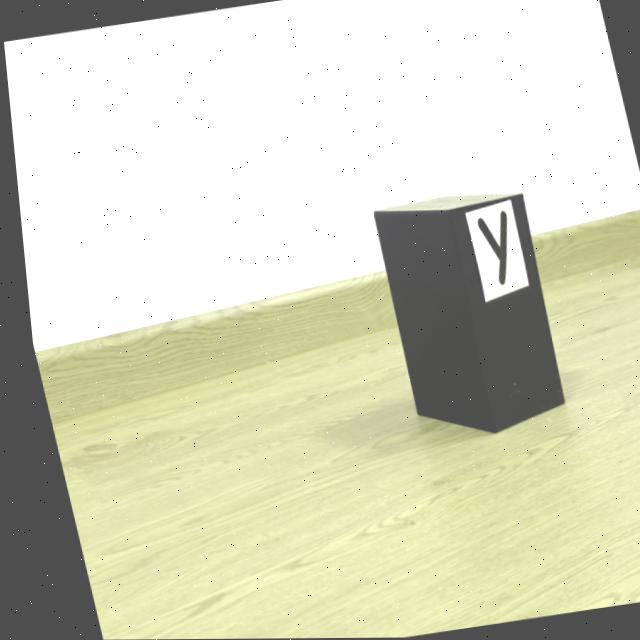Y: (473, 212, 503, 286)
